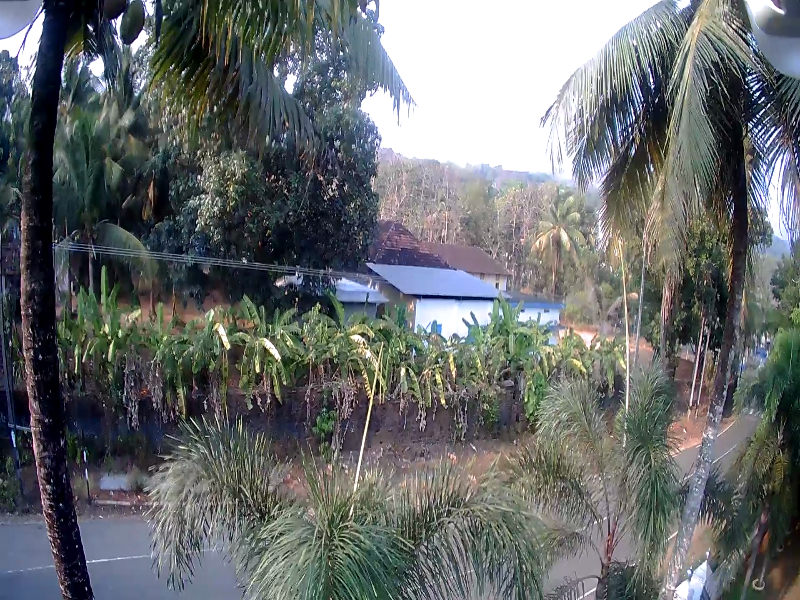coconut: (123, 1, 142, 40)
